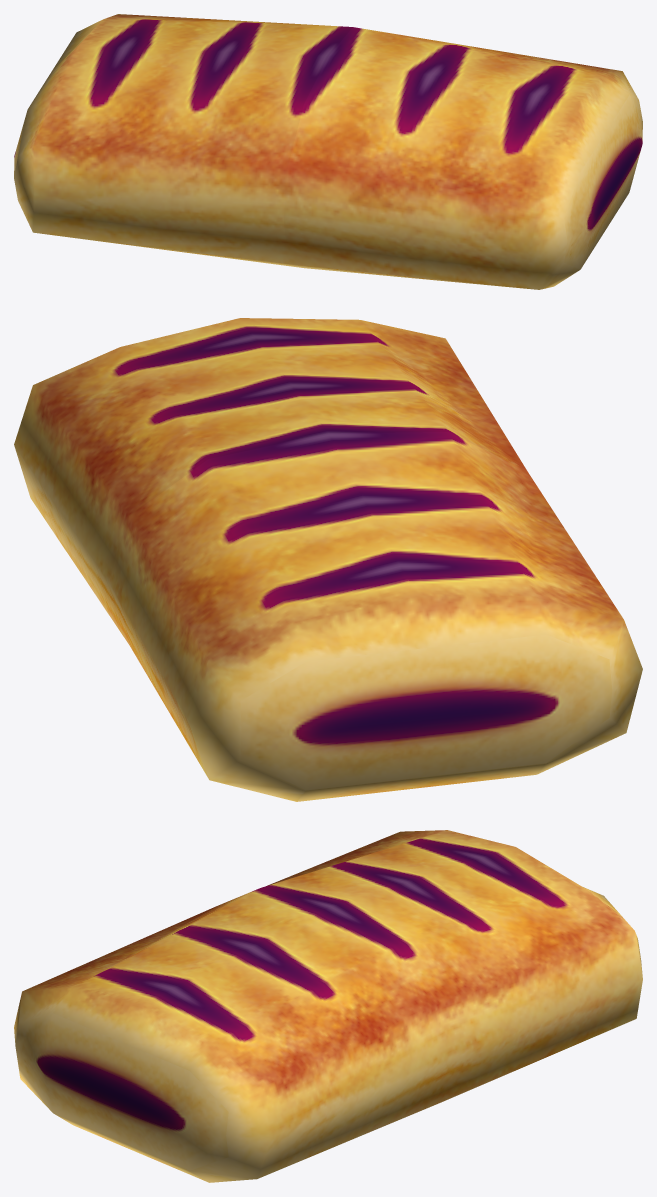
Rendered from 007-Strudel_03.FBX.
The picture shows the model from 3 angles, top to bottom: view 1: azimuth 30°, elevation 25°; view 2: azimuth 150°, elevation 25°; view 3: azimuth 270°, elevation 25°; orthographic projection. The views are drawn at different scales.
Parts seen in each view (by area): view 1: 007-Strudel_03; view 2: 007-Strudel_03; view 3: 007-Strudel_03.
Boxes of the visible parts, x1,y1,x2,y2 form: 007-Strudel_03: [14, 14, 642, 289]; 007-Strudel_03: [14, 318, 642, 801]; 007-Strudel_03: [14, 830, 642, 1182].
Size of the model in its own units: 17.98 by 5.6 by 17.98.
